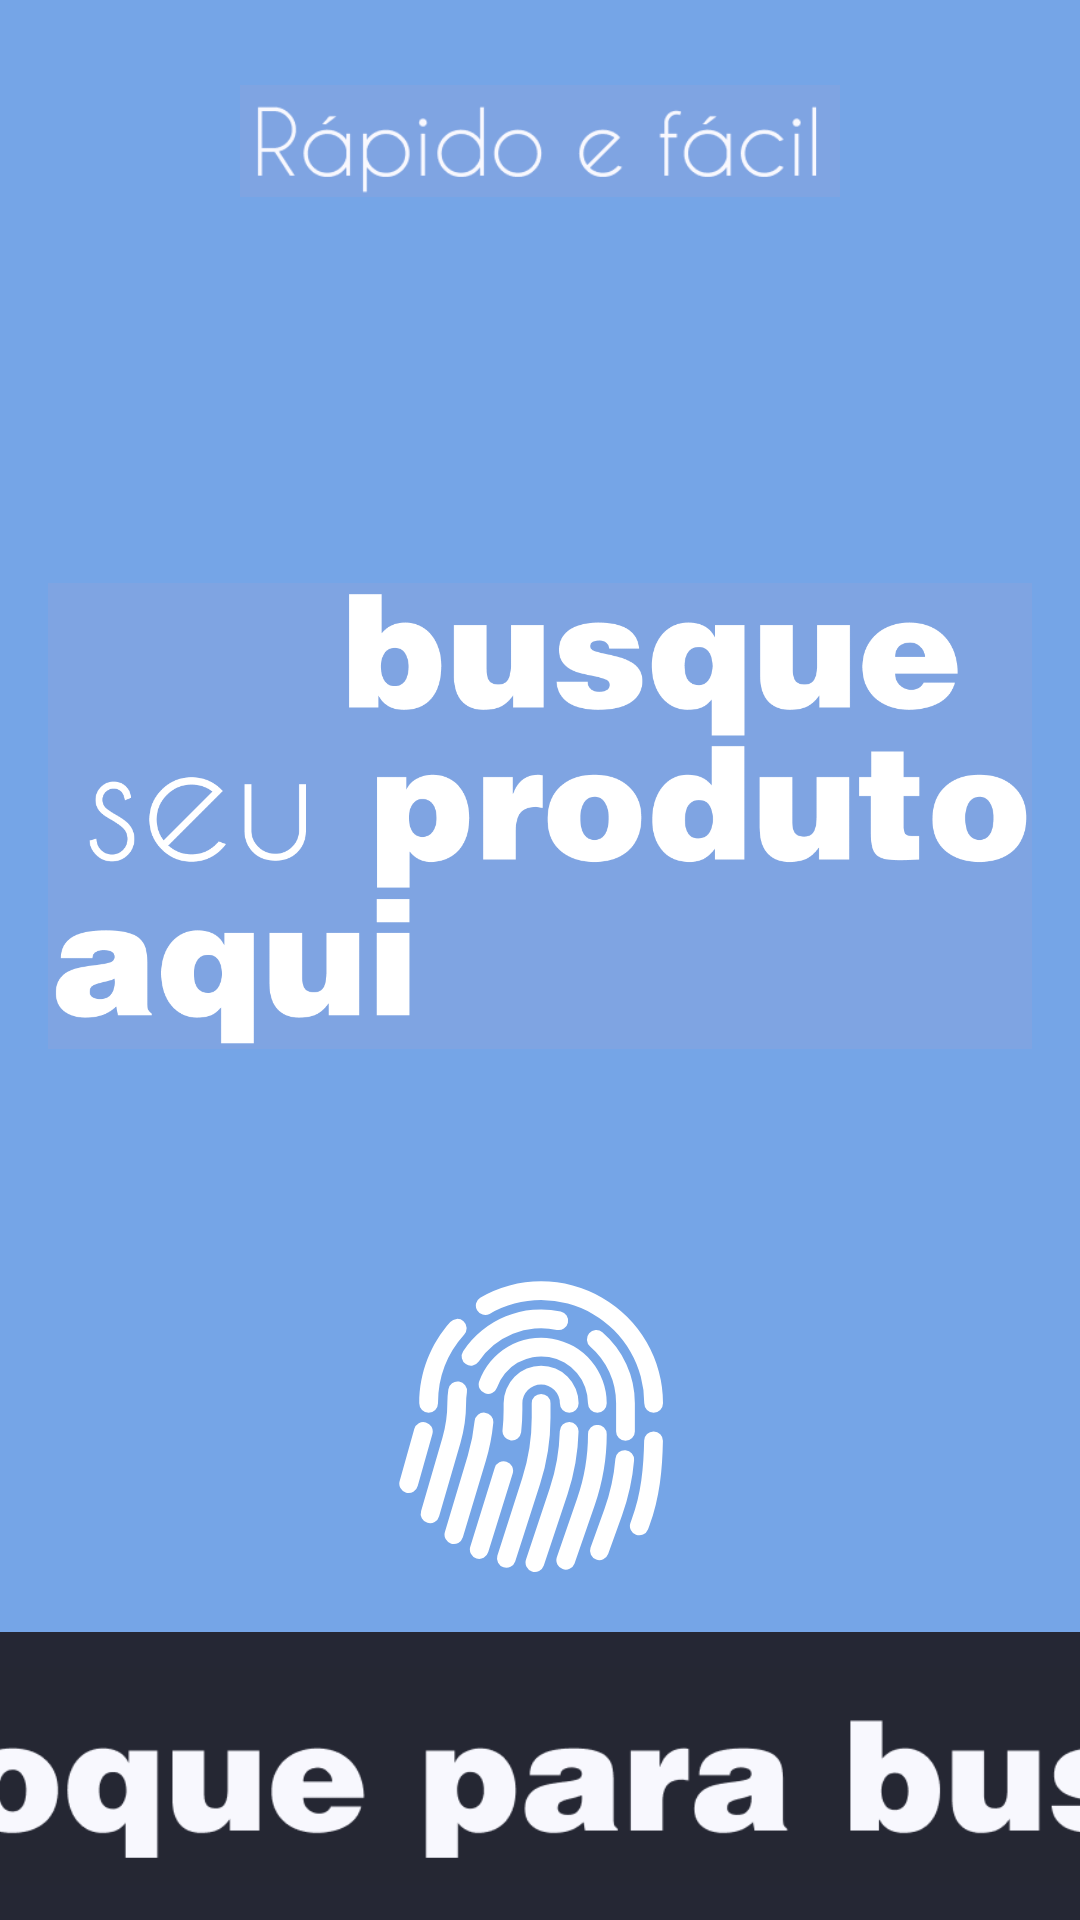

Locate icon controls on the screen. Image size 1080 × 1920, boxes as region(x1, y1, x2, y2).
fingerprint: region(399, 1281, 663, 1572)
